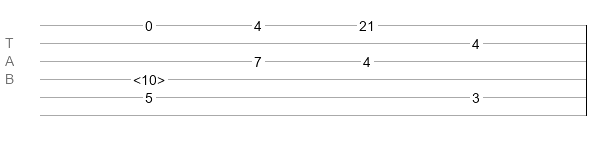0: (145, 18, 153, 28)
21: (359, 18, 375, 28)
3: (472, 90, 480, 100)
4: (254, 18, 262, 28), (363, 54, 371, 64), (472, 36, 480, 46)
5: (145, 90, 153, 100)
7: (254, 54, 262, 64)
harmonic: (133, 72, 165, 82)
